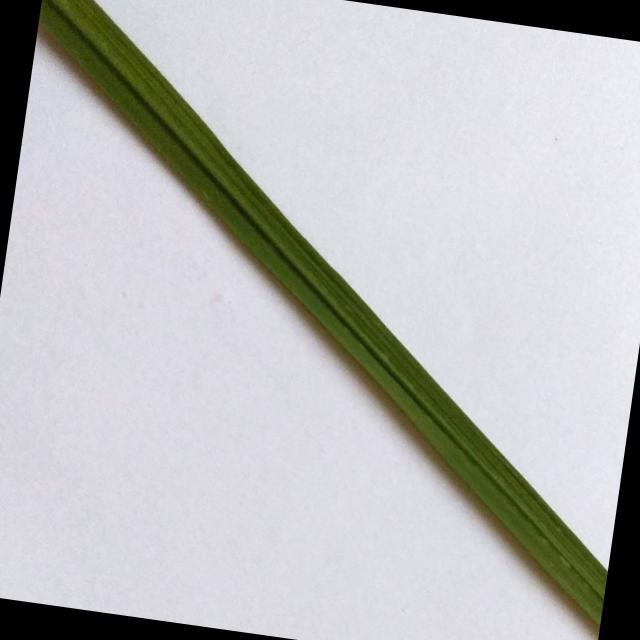Rice_Healthy: (39, 0, 608, 625)
